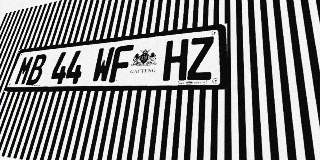4: (63, 50, 87, 84), (49, 51, 72, 84)
B: (25, 54, 48, 85)
F: (109, 45, 134, 83)
H: (162, 39, 189, 81)
M: (13, 55, 35, 85)
W: (91, 47, 115, 83)
Z: (187, 36, 214, 80)
